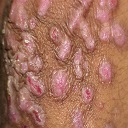Dystrophic Bullosa: (5, 26, 82, 107)
